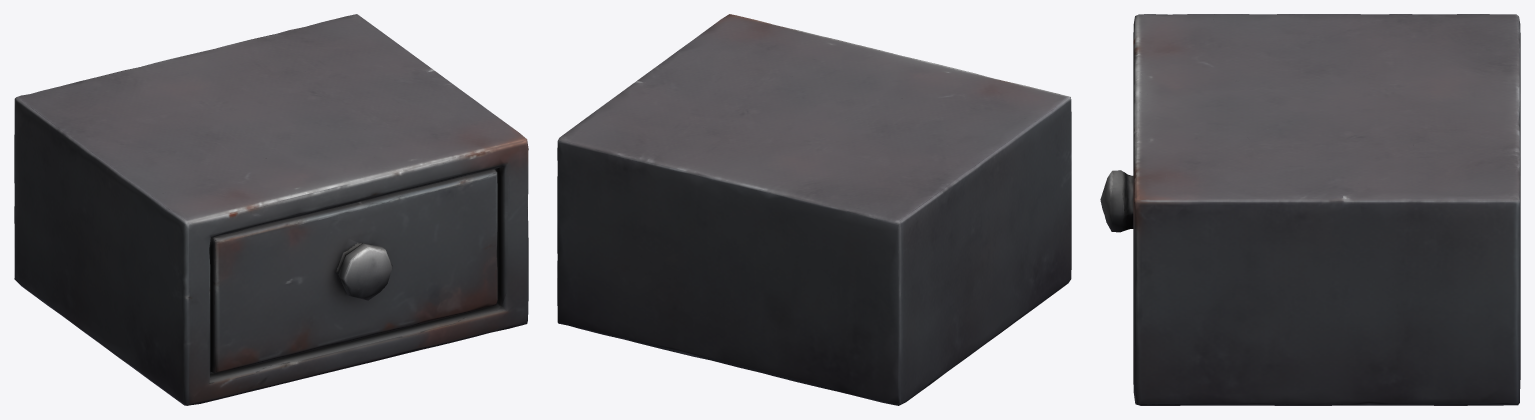
File: computerlab_DeskDrawer.glb
3 renders of one model, left to right at view 1: azimuth 30°, elevation 25°; view 2: azimuth 150°, elevation 25°; view 3: azimuth 270°, elevation 25°, orthographic. The views are drawn at different scales.
Parts seen in each view (by area): view 1: world; view 2: world; view 3: world.
Boxes of the visible parts, x1,y1,x2,y2 form: world: (14,14,528,405); world: (557,14,1071,405); world: (1100,14,1520,405).
Bounding box in the file's own units: 1 × 0.5159 × 0.9485.
1 material, 1 textured.
